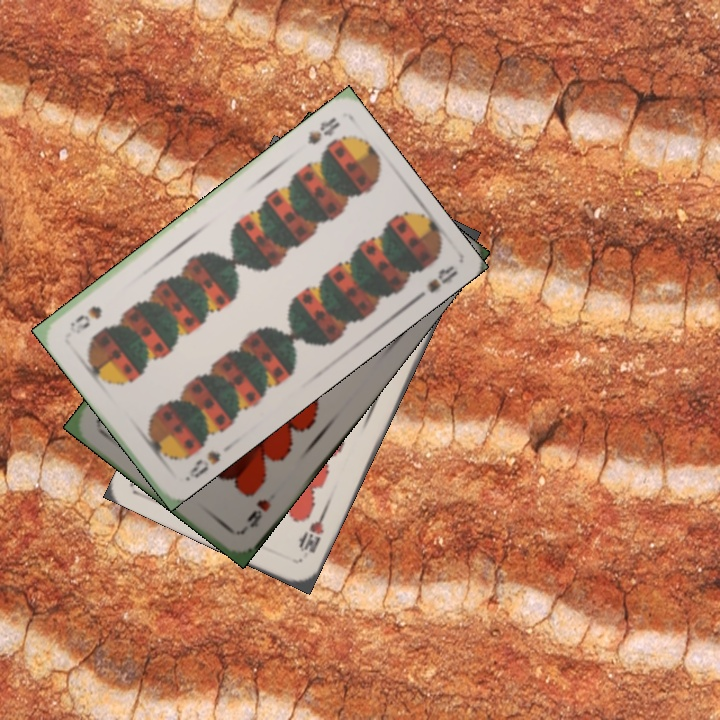H10: (294, 506, 329, 556)
H9: (238, 494, 273, 535)
S8: (181, 446, 224, 484), (303, 113, 343, 147)
